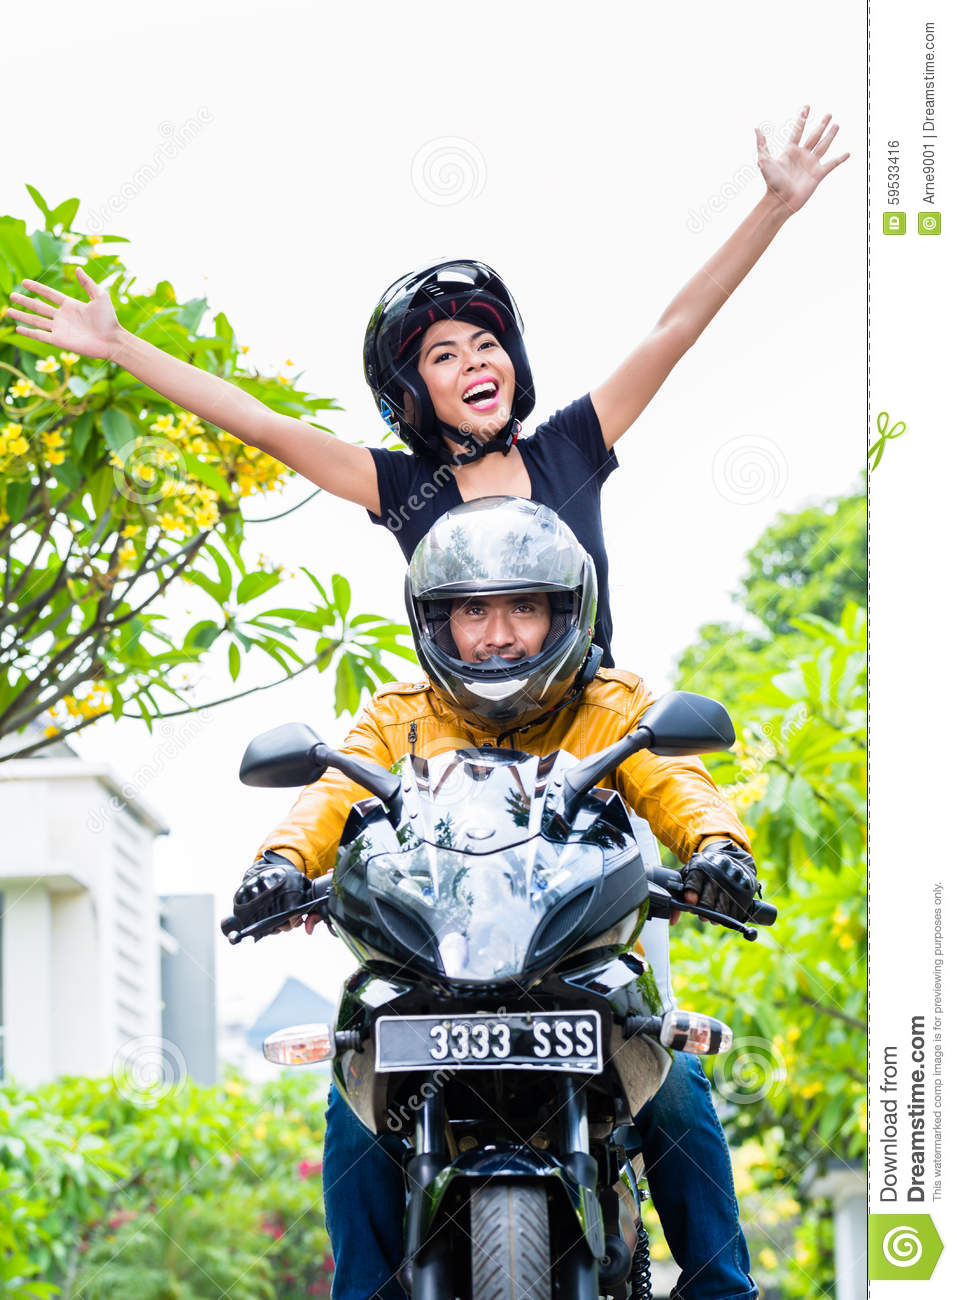helmet: (374, 501, 610, 693), (340, 273, 528, 431)
